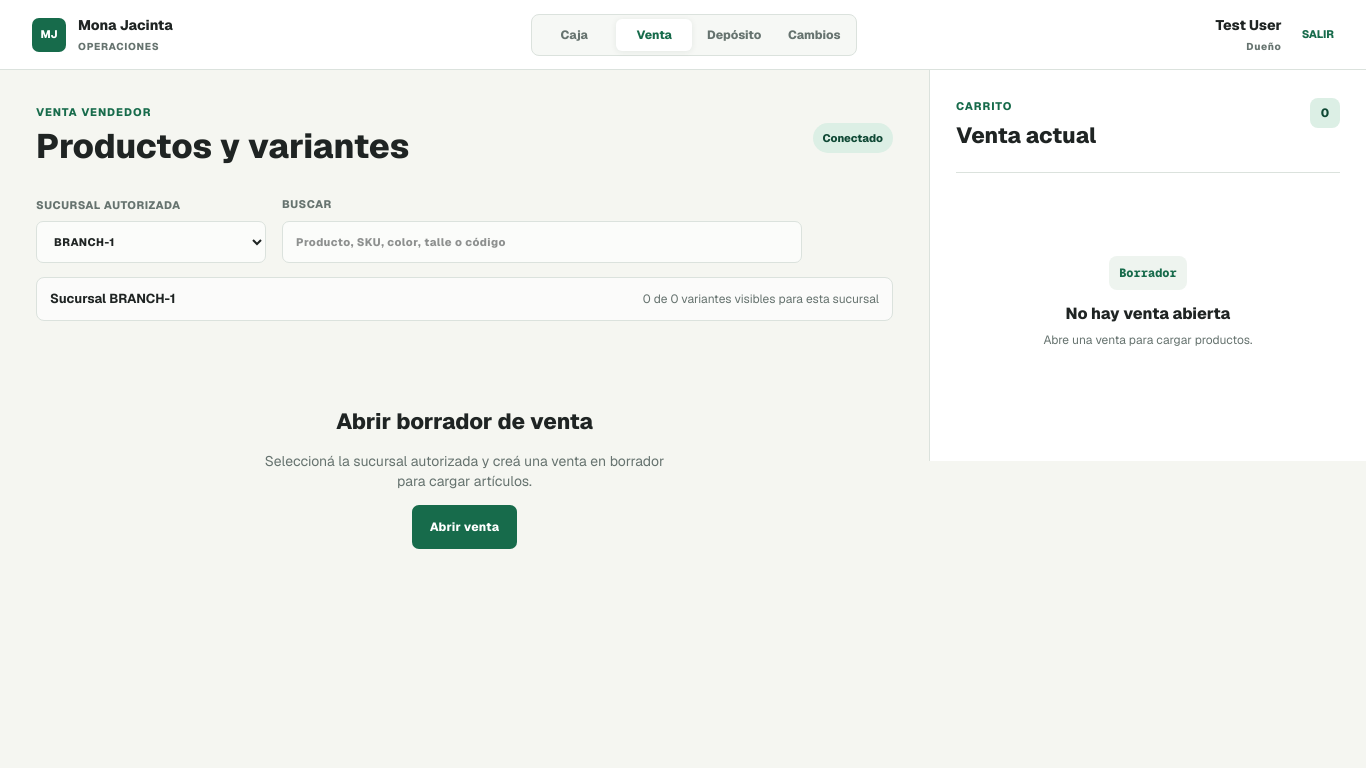
Test: ExchangeWorkspace UI-1 — tab, branch authority and Web Locks guard › EW05b with Web Locks there is no blocking message and the sale-number field is there
Expected: the button "Venta" is shown, [616,18,692,50]
Click the button "Cambios" at (814,34), box [776,18,852,50]
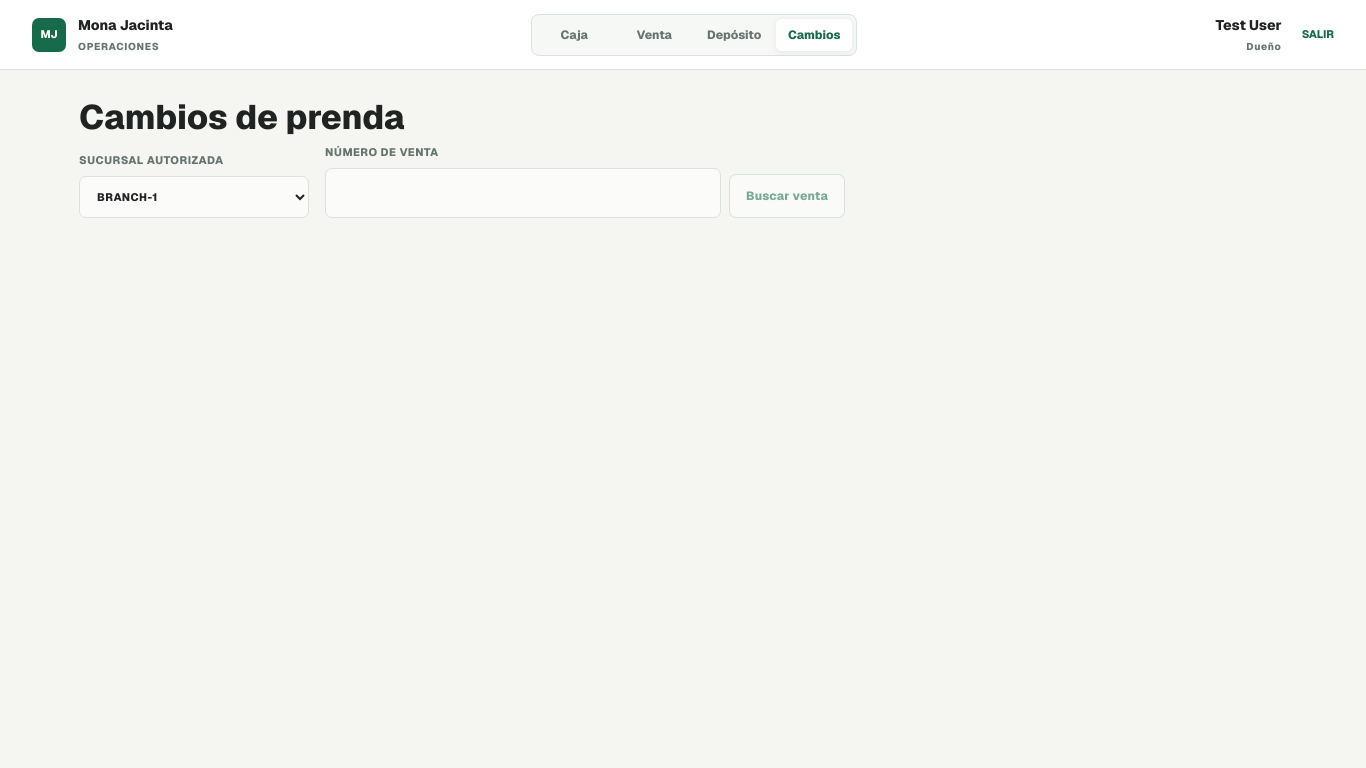
Now the field labelled "Número de venta" is shown, box [325,168,721,218]
